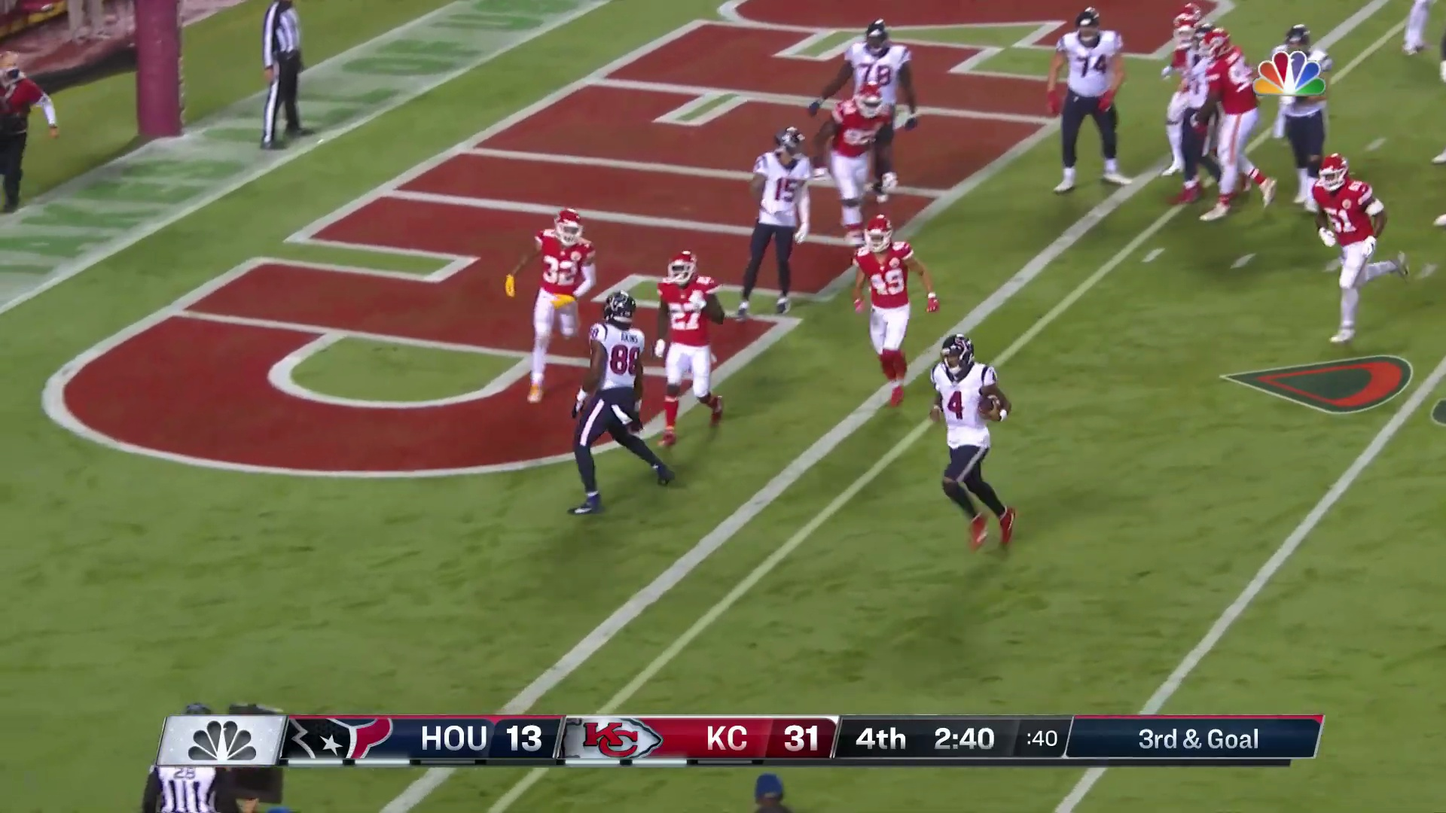Player: (932, 331, 1013, 547), (573, 289, 643, 513), (1050, 5, 1123, 192), (1313, 153, 1385, 342), (739, 126, 811, 314), (833, 19, 906, 203), (658, 249, 723, 446), (854, 211, 913, 403), (1268, 25, 1329, 205), (1205, 29, 1261, 214), (829, 86, 891, 229), (1167, 4, 1209, 193), (1404, 0, 1432, 54), (1441, 31, 1446, 81)
